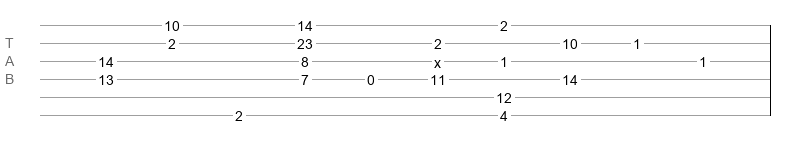0: (367, 72, 375, 82)
1: (500, 54, 508, 64), (633, 36, 641, 46), (699, 54, 707, 64)
10: (164, 18, 180, 28), (562, 36, 578, 46)
11: (430, 72, 446, 82)
12: (496, 90, 512, 100)
13: (98, 72, 114, 82)
14: (98, 54, 114, 64), (297, 18, 313, 28), (562, 72, 578, 82)
2: (168, 36, 176, 46), (235, 108, 243, 118), (434, 36, 442, 46), (500, 18, 508, 28)
23: (297, 36, 313, 46)
4: (500, 108, 508, 118)
7: (301, 72, 309, 82)
8: (301, 54, 309, 64)
x: (434, 55, 441, 63)
